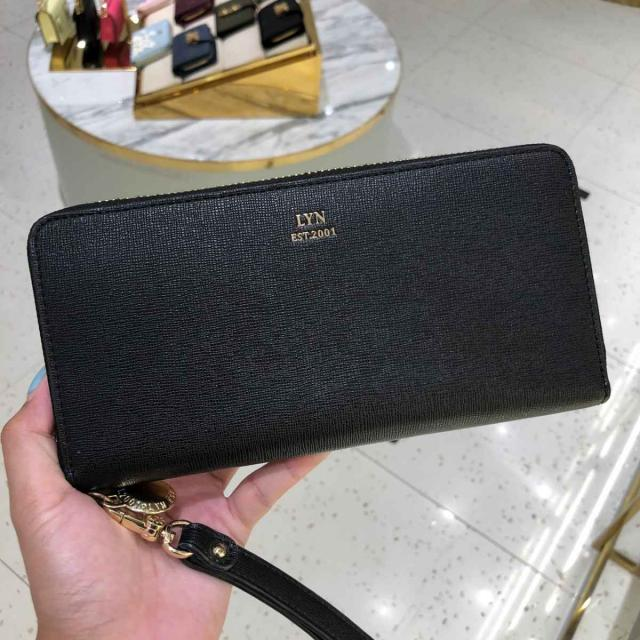Handbag: (40, 150, 609, 489)
